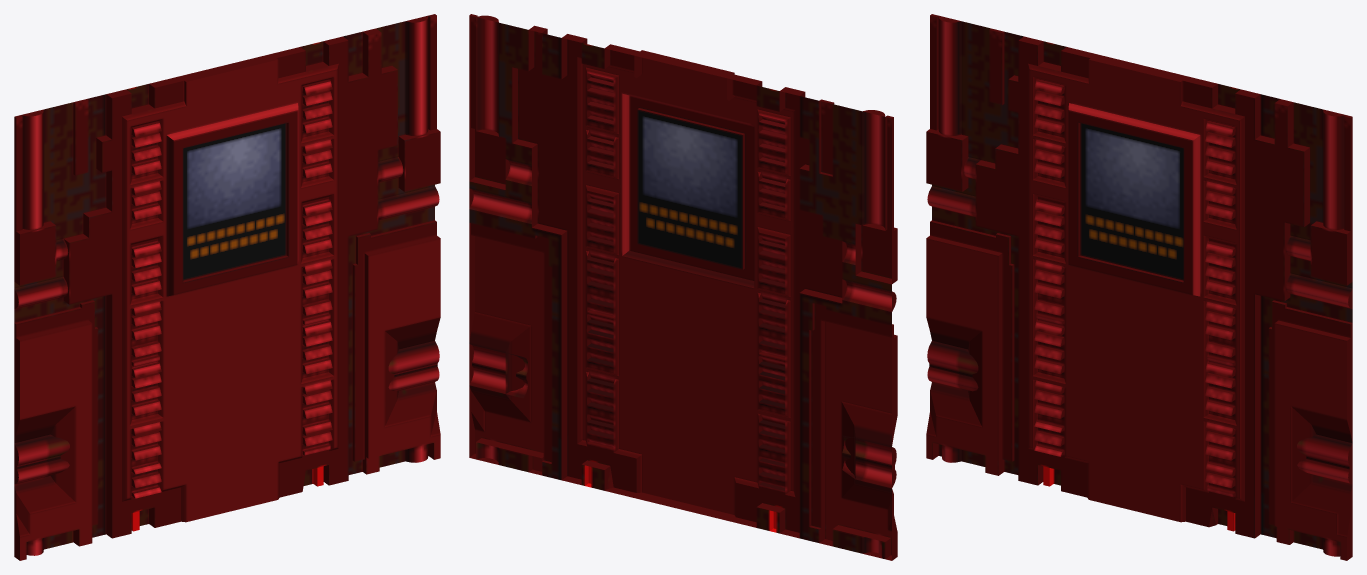
Rendered from reac3_6.fbx.
3 views of the same model, side by side, from view 1: azimuth 30°, elevation 25°; view 2: azimuth 150°, elevation 25°; view 3: azimuth 330°, elevation 25° (orthographic).
Visible parts, largest first — view 1: reac3_6; view 2: reac3_6; view 3: reac3_6.
Part boxes in pixels (<box>): reac3_6: <box>14,14,440,560</box>; reac3_6: <box>469,14,897,560</box>; reac3_6: <box>926,14,1352,560</box>.
Bounding box in the file's own units: 256 × 256 × 12.
